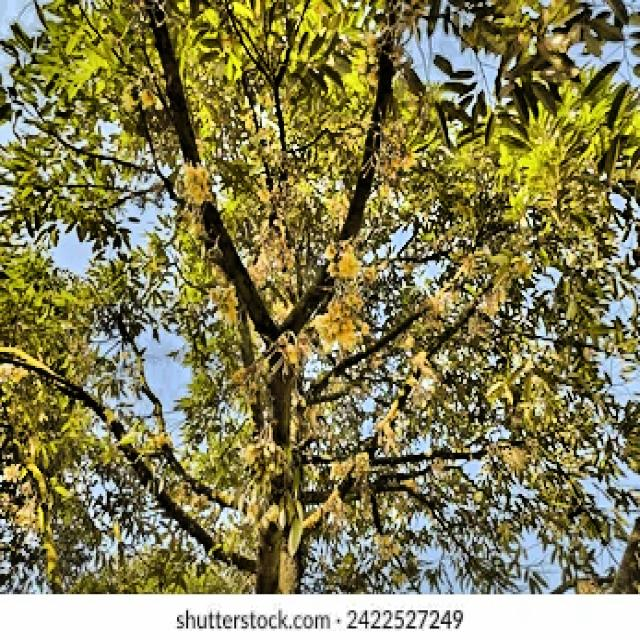arvore: (251, 243, 304, 594)
